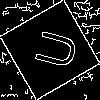U: (25, 25, 79, 72)
